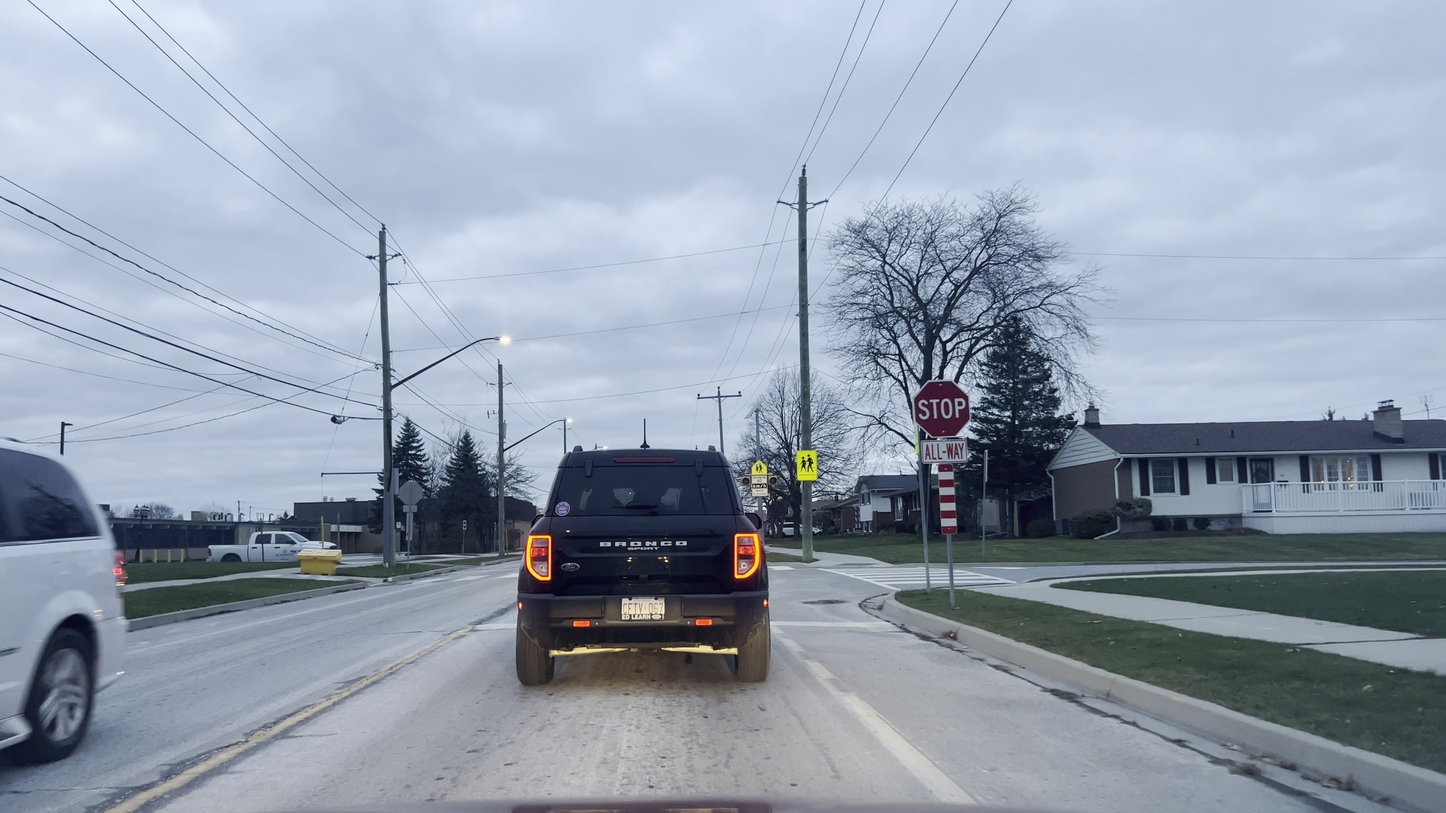cracks: (91, 730, 214, 813), (222, 701, 305, 768)
